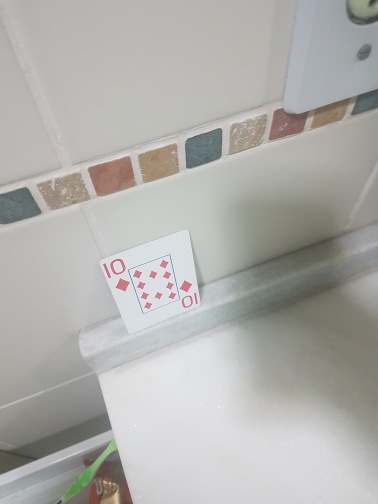ten: (100, 231, 202, 333)
